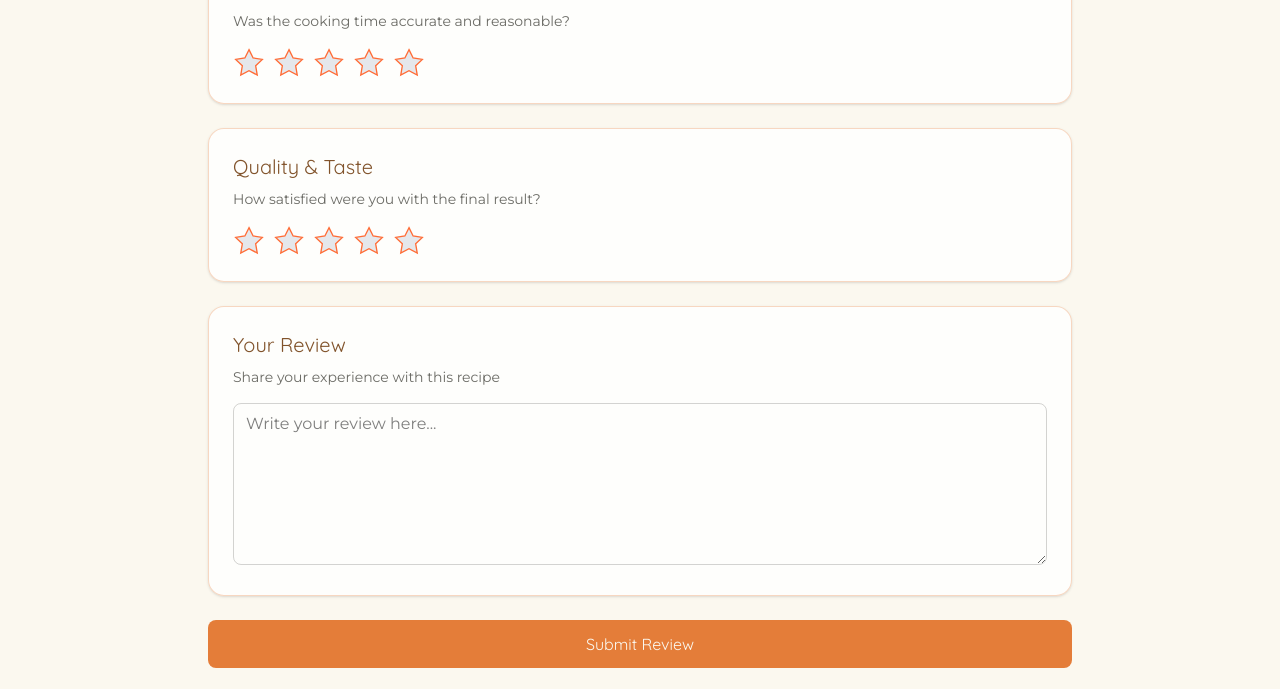
Test: ReviewPage › mostra erro se tentar submeter sem avaliar as 3 categorias
(page scrolled)
Click the button "Submit Review": (640, 644) [208,620,1072,668]
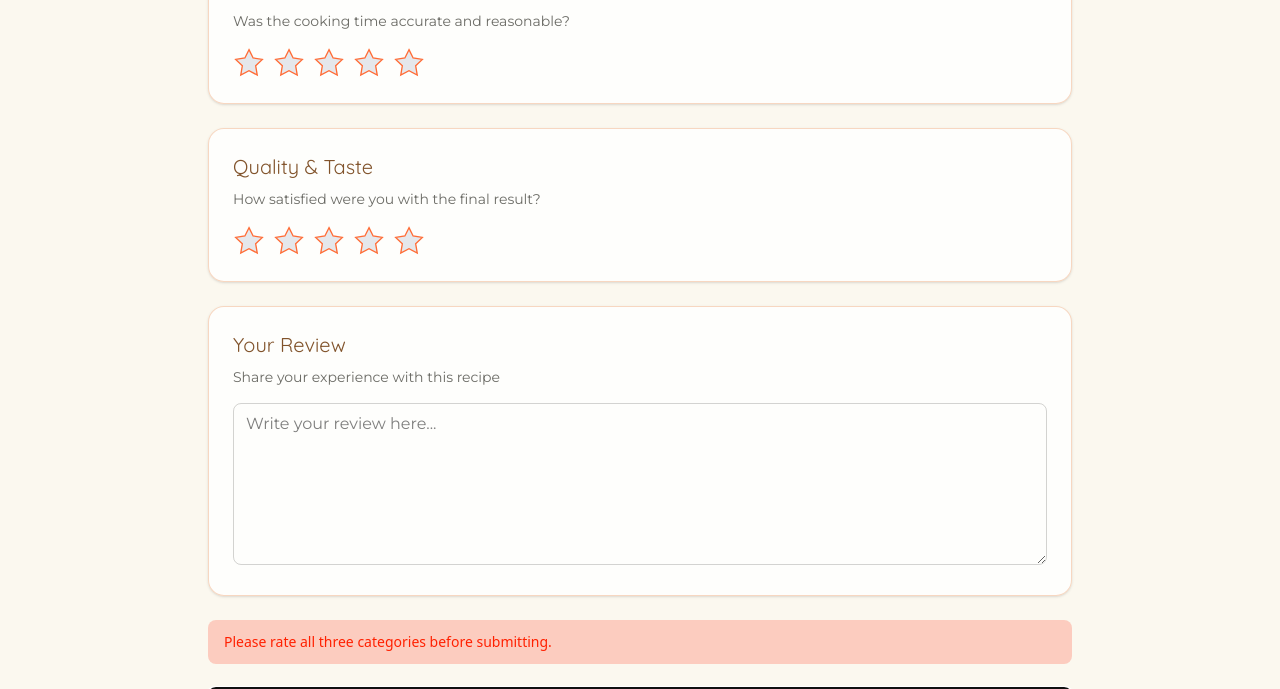
Check: the text "Please rate all three categories before submitting." is shown, box [208,620,1072,664]
